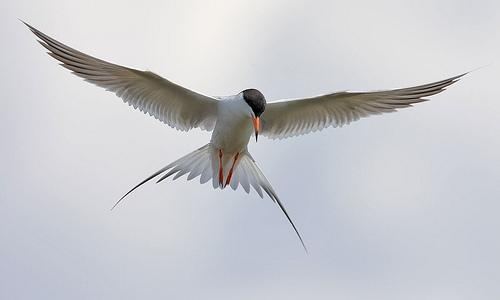bird: (23, 18, 487, 250)
